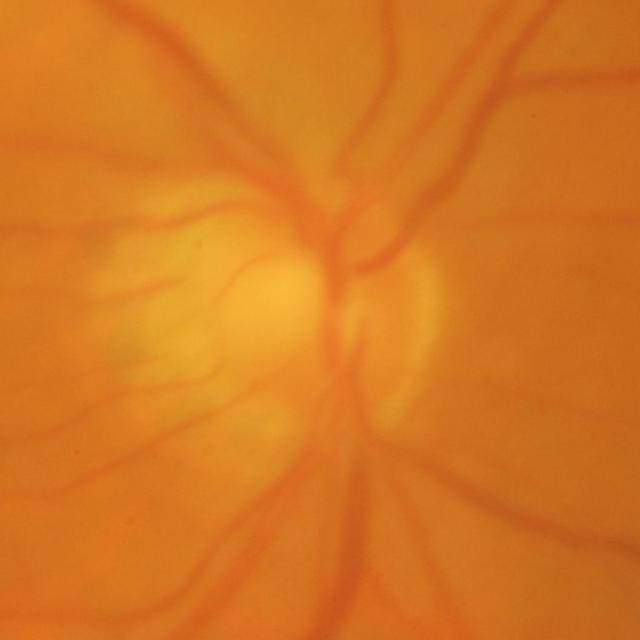OC: (204, 235, 379, 384)
OD: (89, 169, 447, 491)
